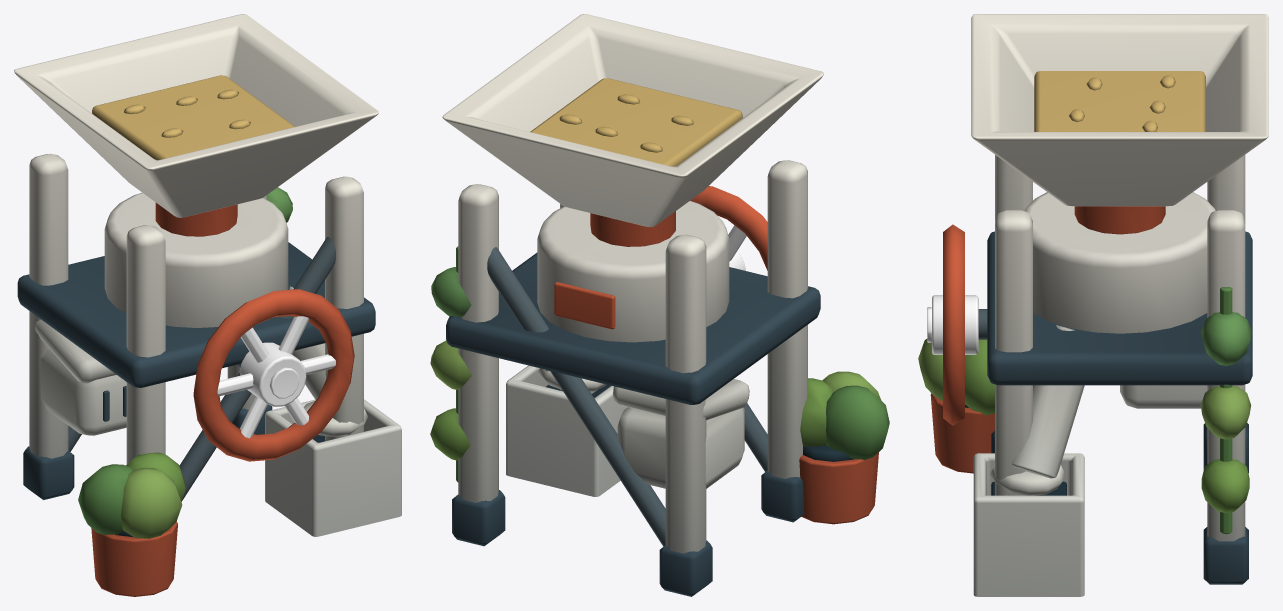
The model's file is mill_electric.glb.
3 renders of one model, left to right at view 1: azimuth 30°, elevation 25°; view 2: azimuth 150°, elevation 25°; view 3: azimuth 270°, elevation 25°, orthographic. The views are drawn at different scales.
Visible parts, largest first — view 1: Mill_open_hopper, move_spin_drive, Mill_ceramic_grinder, Mill_machine_shelf, Mill_flour_bin, Mill_visible_grain, Mill_timber_upright.001, Mill_timber_upright, Mill_timber_upright.002, decor_Terracotta_planter, Mill_motor, decor_Living_leaves.002 (+8 smaller); view 2: Mill_open_hopper, Mill_machine_shelf, Mill_ceramic_grinder, Mill_timber_upright.001, Mill_timber_upright, Mill_timber_upright.003, Mill_flour_bin, Mill_visible_grain, Mill_tower_brace.001, Mill_motor, decor_Terracotta_planter, decor_Living_leaves (+13 smaller); view 3: Mill_open_hopper, Mill_ceramic_grinder, Mill_machine_shelf, Mill_flour_bin, Mill_visible_grain, Mill_timber_upright.002, move_spin_drive, Mill_timber_upright.003, Mill_flour_chute, decor_Terracotta_planter, Mill_copper_neck, Mill_leg_boot.003 (+10 smaller).
Part boxes in pixels (<box>): Mill_open_hopper: <box>14,14,378,217</box>; move_spin_drive: <box>193,289,354,461</box>; Mill_ceramic_grinder: <box>104,192,288,327</box>; Mill_machine_shelf: <box>17,242,375,387</box>; Mill_flour_bin: <box>265,399,401,536</box>; Mill_visible_grain: <box>92,75,294,160</box>; Mill_timber_upright.001: <box>29,153,68,458</box>; Mill_timber_upright: <box>126,225,165,464</box>; Mill_timber_upright.002: <box>325,176,363,440</box>; decor_Terracotta_planter: <box>91,521,177,596</box>; Mill_motor: <box>40,349,126,435</box>; decor_Living_leaves.002: <box>121,468,182,538</box>; Mill_open_hopper: <box>442,14,823,227</box>; Mill_machine_shelf: <box>446,252,820,404</box>; Mill_ceramic_grinder: <box>537,201,729,342</box>; Mill_timber_upright.001: <box>665,234,706,553</box>; Mill_timber_upright: <box>767,160,807,478</box>; Mill_timber_upright.003: <box>458,184,498,502</box>; Mill_flour_bin: <box>506,365,627,496</box>; Mill_visible_grain: <box>530,78,742,166</box>; Mill_tower_brace.001: <box>487,247,665,546</box>; Mill_motor: <box>617,407,744,488</box>; decor_Terracotta_planter: <box>799,452,878,524</box>; decor_Living_leaves: <box>826,385,889,460</box>; Mill_open_hopper: <box>971,14,1268,206</box>; Mill_ceramic_grinder: <box>1024,192,1215,333</box>; Mill_machine_shelf: <box>987,231,1252,385</box>; Mill_flour_bin: <box>973,453,1084,596</box>; Mill_visible_grain: <box>1034,71,1205,131</box>; Mill_timber_upright.002: <box>995,210,1032,495</box>; move_spin_drive: <box>927,224,978,425</box>; Mill_timber_upright.003: <box>1207,210,1245,541</box>; Mill_flour_chute: <box>1011,325,1084,478</box>; decor_Terracotta_planter: <box>930,393,994,473</box>; Mill_copper_neck: <box>1074,206,1165,234</box>; Mill_leg_boot.003: <box>1203,527,1248,584</box>.
Size of the model in its own units: 1.58 by 1.93 by 1.37.
